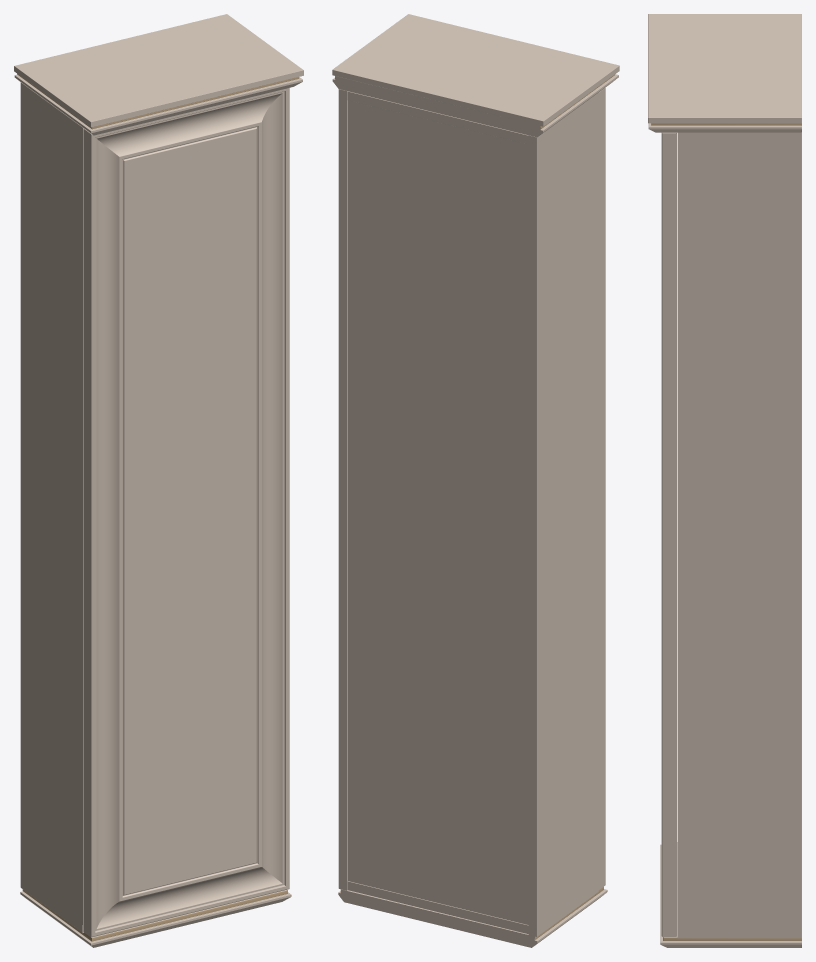
The picture shows the model from 3 angles, left to right: view 1: azimuth 30°, elevation 25°; view 2: azimuth 150°, elevation 25°; view 3: azimuth 270°, elevation 25°; orthographic projection.
Visible parts, largest first — view 1: BL010.005, BL010.004; view 2: BL010.004, BL010.005; view 3: BL010.004, BL010.005.
Part boxes in pixels (x1,y1,x2,y2): BL010.005: [83, 88, 289, 937]; BL010.004: [14, 14, 303, 947]; BL010.004: [332, 14, 619, 947]; BL010.005: [598, 87, 605, 889]; BL010.004: [648, 14, 801, 947]; BL010.005: [661, 132, 676, 936].
Bounding box in the file's own units: 0.4 × 1.5 × 0.25.
